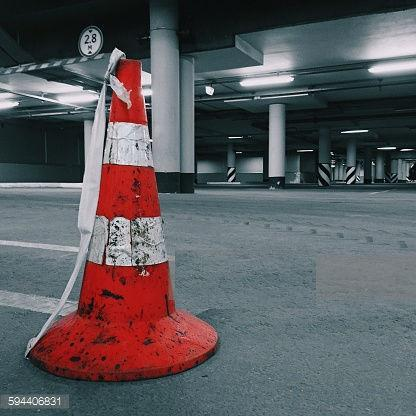Cone: (29, 56, 221, 380)
